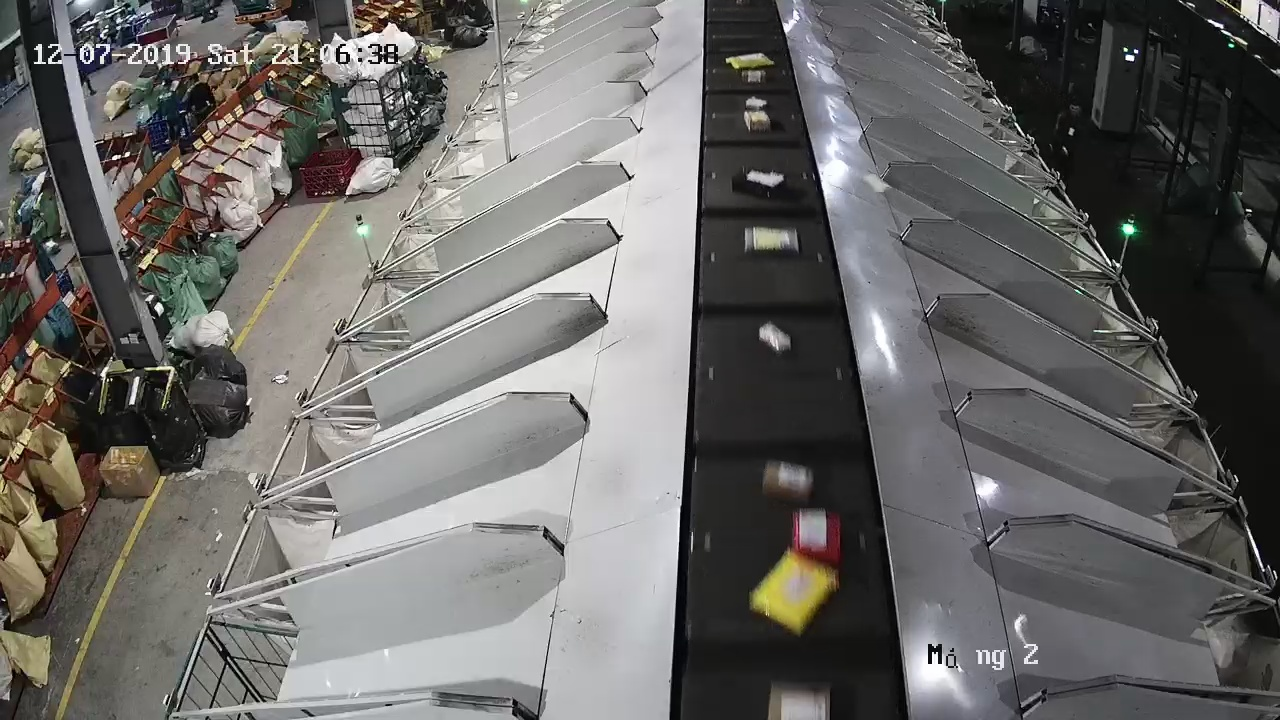parcel: (861, 172, 889, 194)
